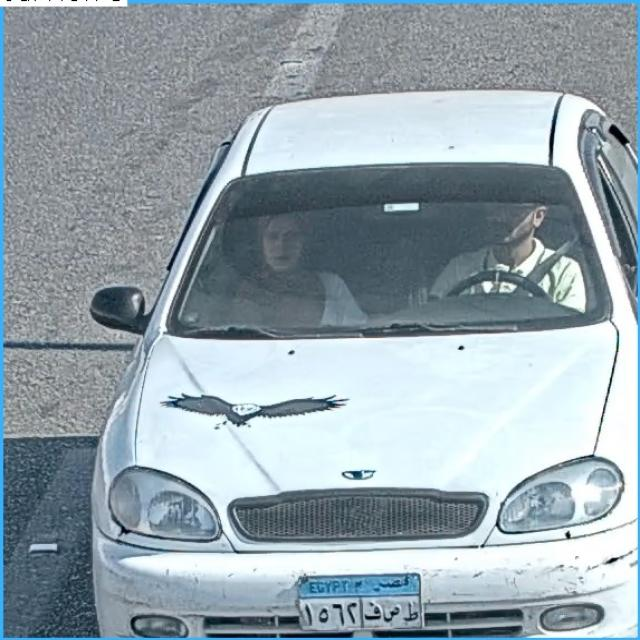windshield: (172, 157, 594, 329)
